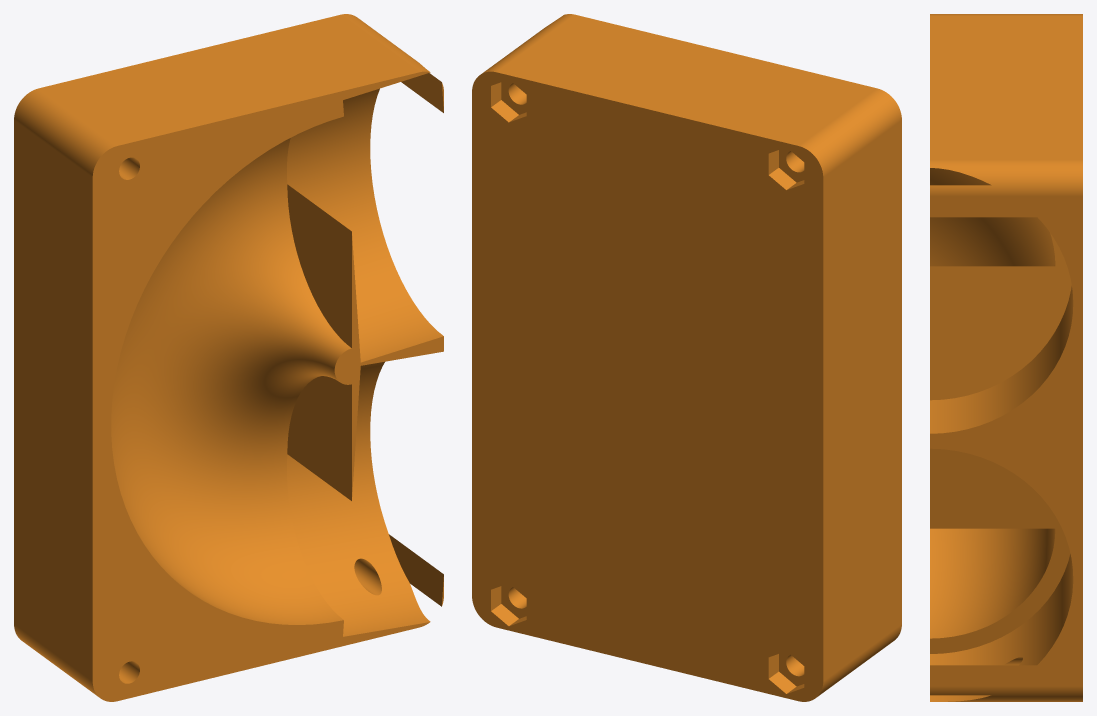
File: mag_u_esq_t.glb
3 views of the same model, side by side, from view 1: azimuth 30°, elevation 25°; view 2: azimuth 150°, elevation 25°; view 3: azimuth 270°, elevation 25° (orthographic). The views are drawn at different scales.
Visible parts, largest first — view 1: mag_u_esq_t; view 2: mag_u_esq_t; view 3: mag_u_esq_t.
Boxes of the visible parts, box(x1,y1,x2,y2) form: mag_u_esq_t: box(14, 14, 443, 701); mag_u_esq_t: box(472, 14, 901, 701); mag_u_esq_t: box(930, 14, 1082, 701).
Size of the model in its own units: 57.2 by 86.4 by 22.2.
